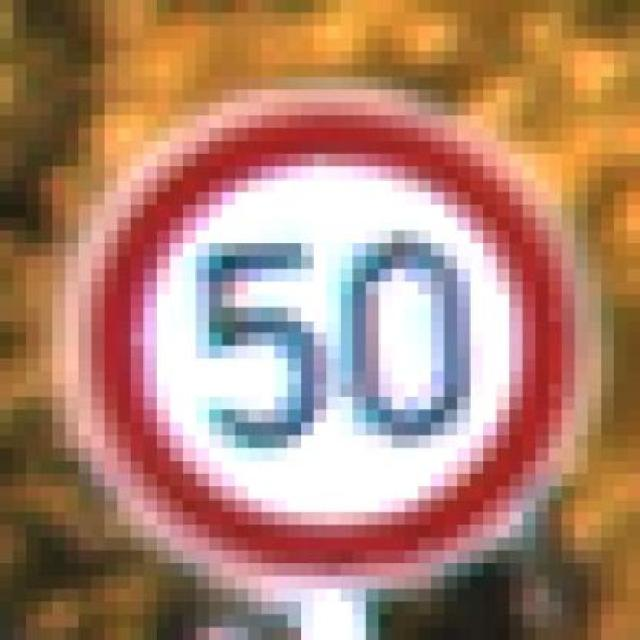forb_speed_over_50: (72, 102, 576, 576)
